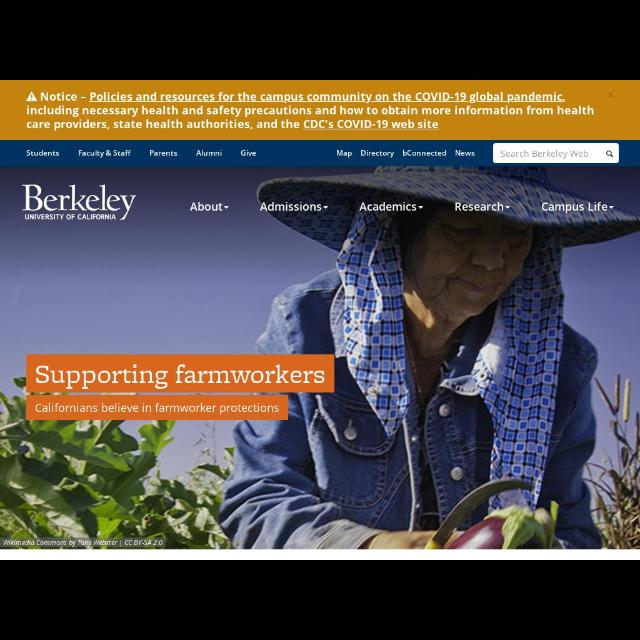backgroundimage: (1, 166, 639, 548)
icon: (26, 92, 36, 102), (606, 150, 614, 160), (608, 92, 614, 98), (608, 205, 614, 209), (418, 205, 424, 209), (223, 207, 230, 210), (506, 205, 510, 209), (324, 205, 328, 209)
image: (23, 184, 135, 222)
input: (492, 144, 618, 162)
multitab: (1, 140, 639, 164)
spinner: (361, 200, 424, 212), (542, 202, 614, 212), (262, 202, 331, 212), (454, 201, 510, 211), (190, 202, 230, 212)
text: (26, 90, 594, 130), (36, 364, 324, 390), (35, 402, 279, 413), (4, 538, 162, 548), (500, 150, 590, 158), (542, 202, 606, 212), (260, 202, 322, 212), (360, 202, 416, 212), (453, 202, 503, 212), (78, 149, 132, 157), (401, 148, 447, 156), (190, 202, 222, 212), (26, 149, 60, 157), (361, 150, 395, 156), (335, 148, 353, 158), (454, 148, 476, 156), (150, 150, 178, 156), (197, 150, 223, 156), (239, 149, 257, 157)
